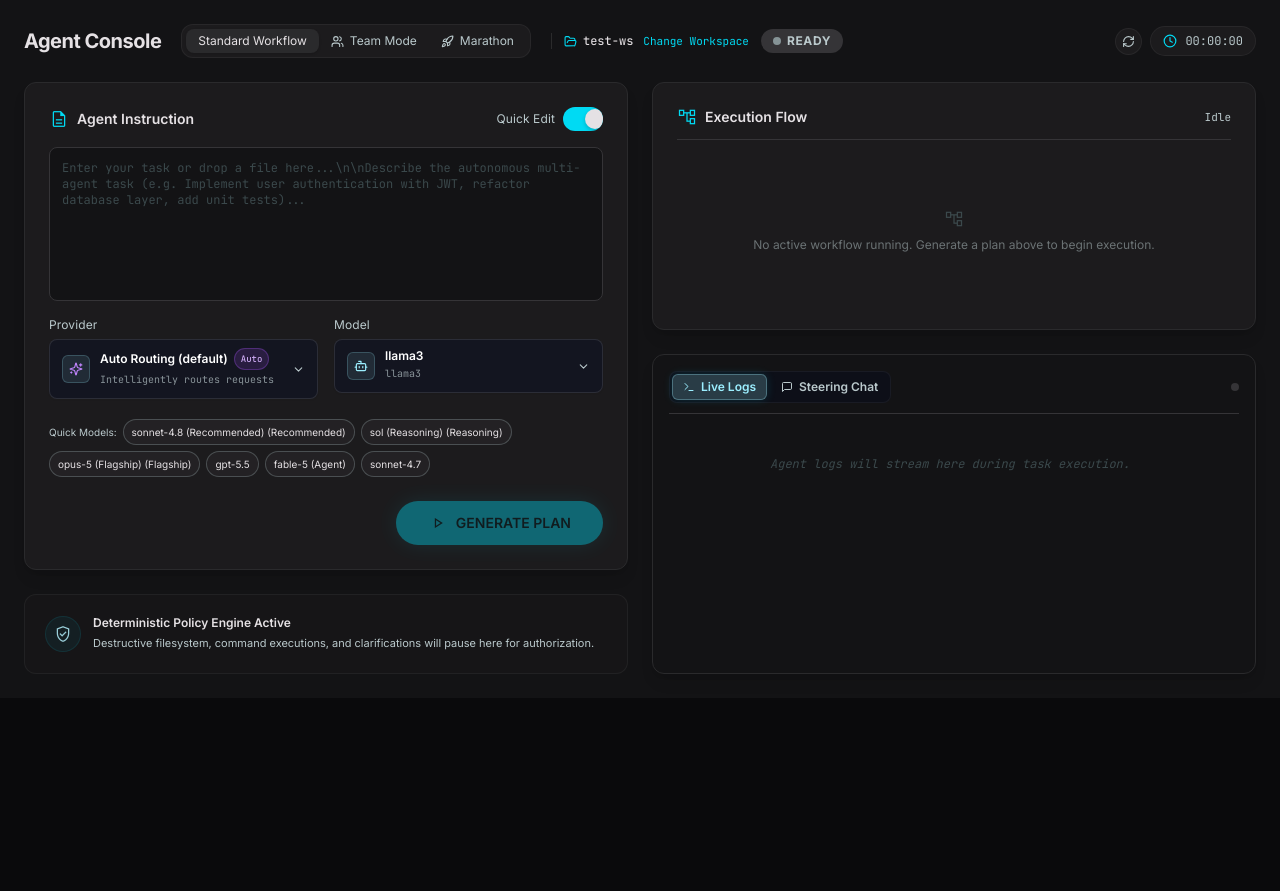
Scenario: Phase B3 — Frontend Core: Team Console, DAG Board & Agent Roster › test_mode_toggle_switches_views: switches between Standard Workflow and Team Mode in AgentConsole
The width and height of the screenshot is (1280, 891).
Expected: the text "Agent Instruction" is shown, [77,109,194,129]
Expected: the button with test id "mode-toggle-standard" is shown, [186,29,319,53]
Switch to Team Mode
Click the button with test id "mode-toggle-team" at (374, 41), box [319,29,429,53]
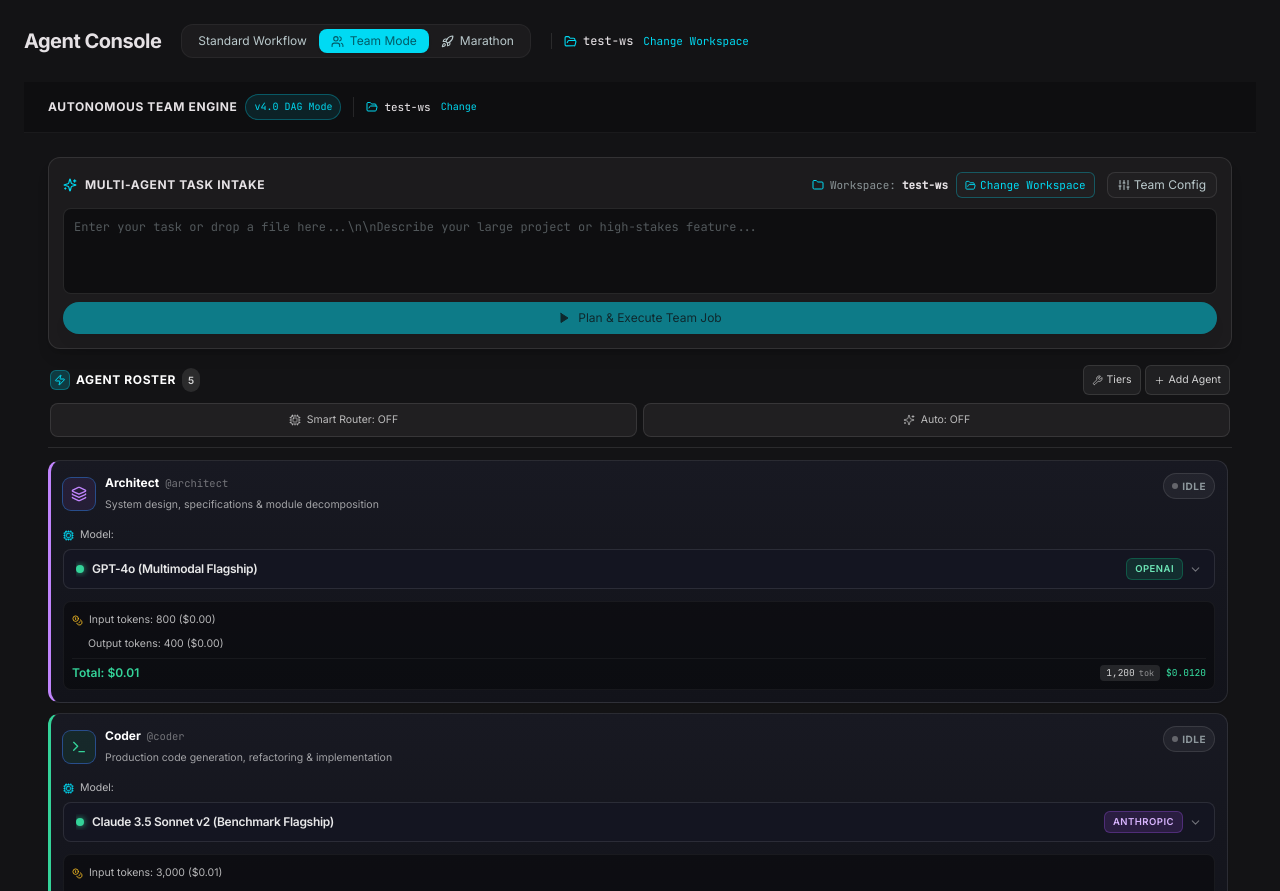
Expected: the text "Autonomous Team Engine" is shown, [48,99,237,115]
Expected: the heading "Agent Roster" is shown, [76,372,176,388]
Switch back to Standard Workflow
Click the button with test id "mode-toggle-standard" at (253, 41), box [186,29,319,53]
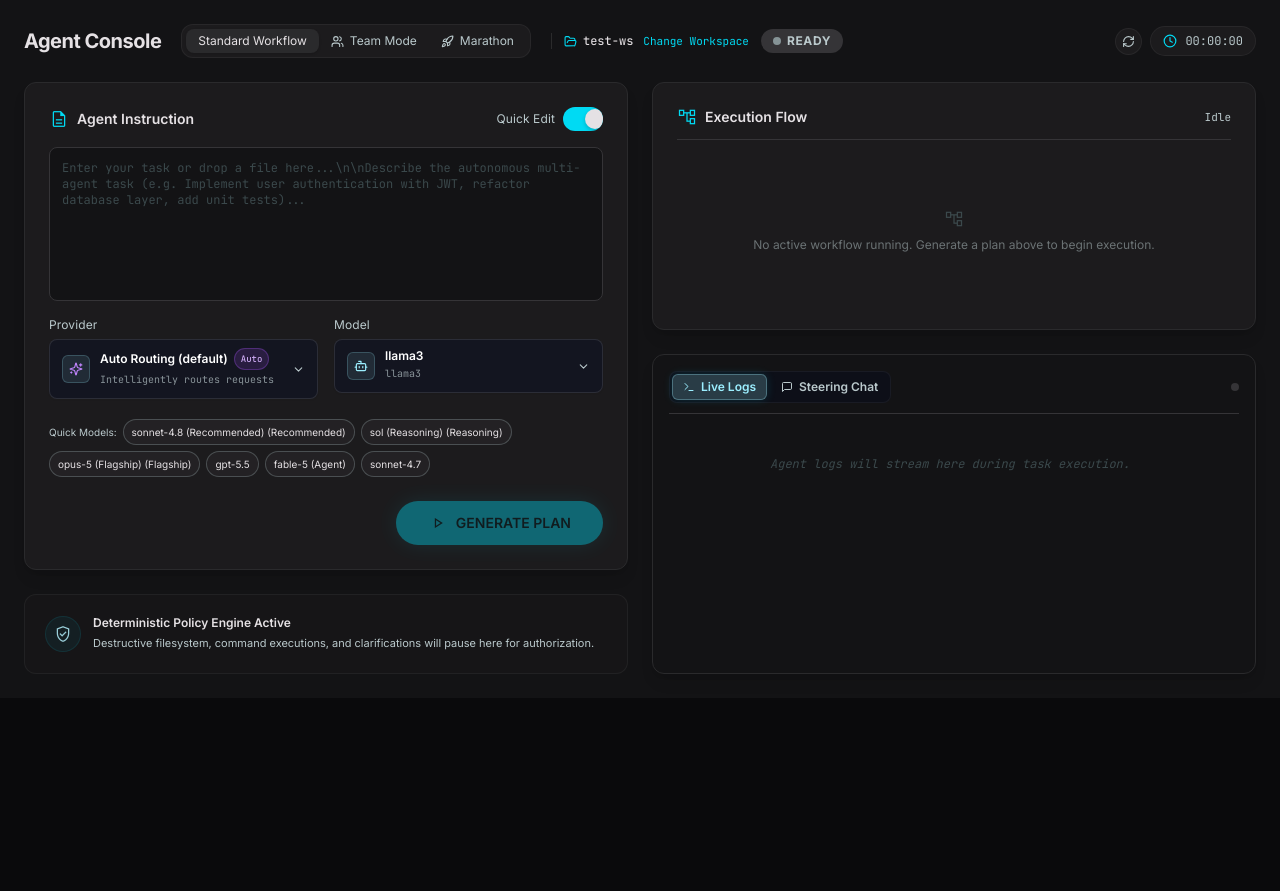
Expected: the text "Agent Instruction" is shown, [77,109,194,129]
